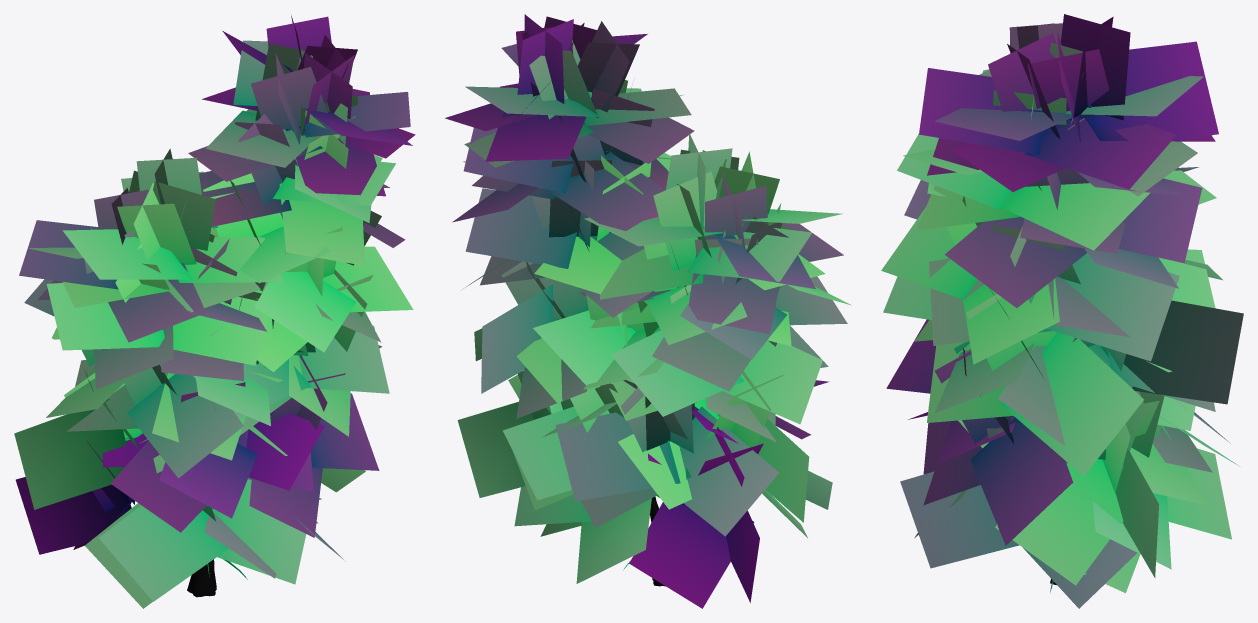
Rendered from Tree_2_10.fbx.
3 views of the same model, side by side, from view 1: azimuth 30°, elevation 25°; view 2: azimuth 150°, elevation 25°; view 3: azimuth 270°, elevation 25° (orthographic). The views are drawn at different scales.
Parts seen in each view (by area): view 1: _10; view 2: _10; view 3: _10.
Boxes of the visible parts, x1=… form: _10: x1=14, y1=15, x2=415, y2=608; _10: x1=445, y1=14, x2=851, y2=608; _10: x1=881, y1=14, x2=1243, y2=608.
Bounding box in the file's own units: 1118 × 1591 × 841.
